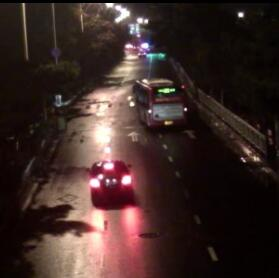bus: (131, 78, 188, 127)
car: (85, 161, 132, 197), (135, 47, 149, 59)
